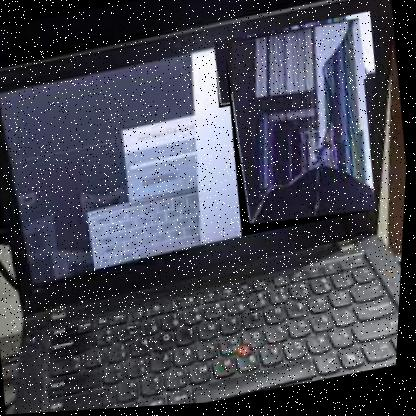crack: (210, 15, 379, 112)
lines: (216, 21, 386, 241)
